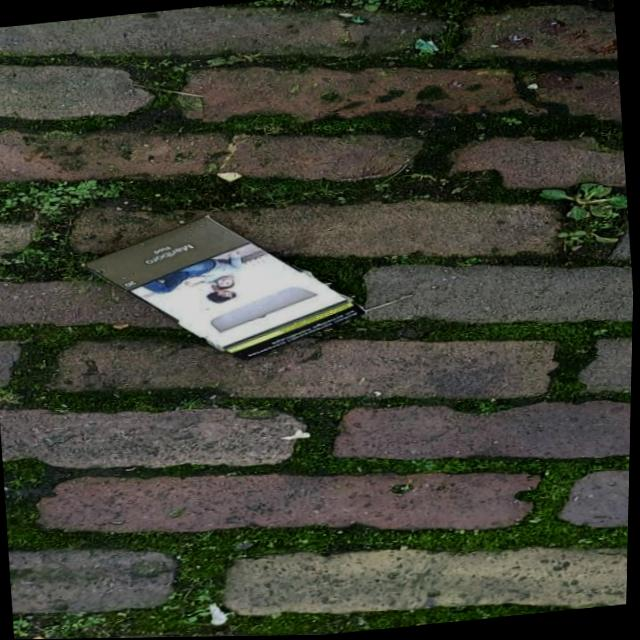Paper: (68, 200, 373, 380)
